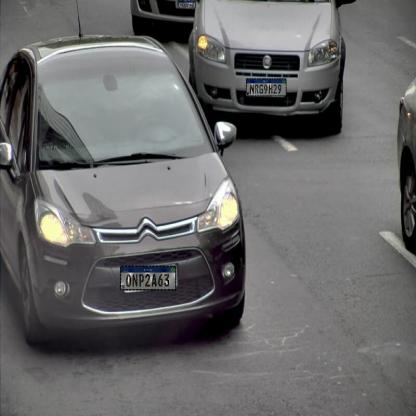PlacaM: (120, 266, 176, 290), (246, 78, 286, 96), (178, 1, 196, 8)
